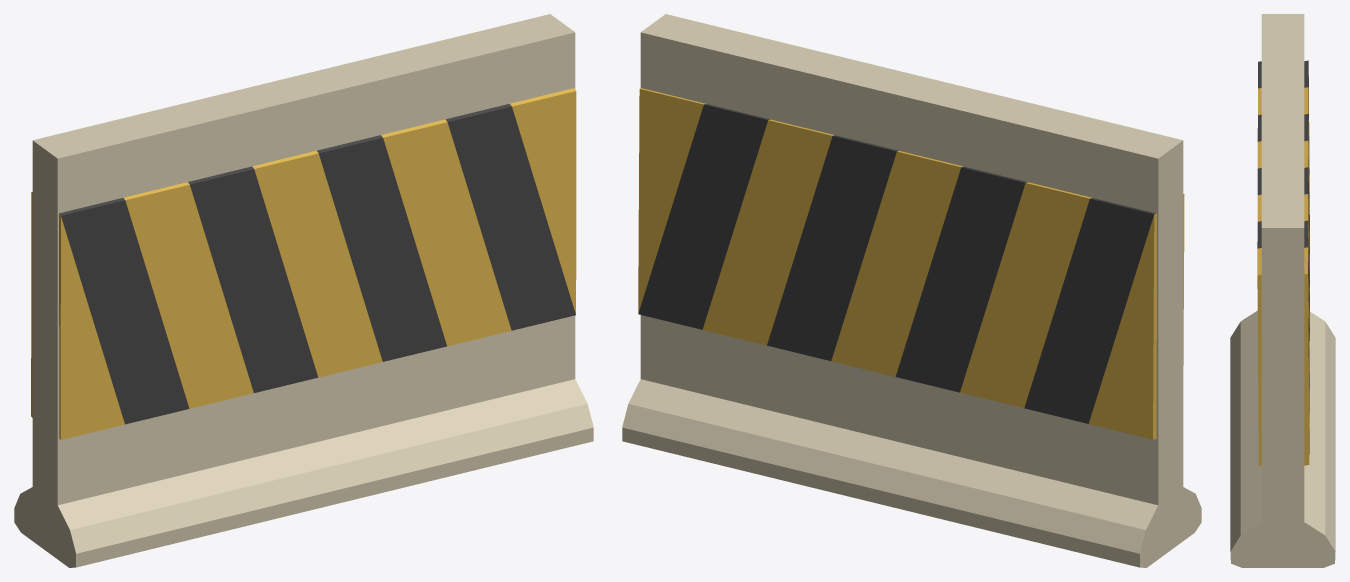
Rendered from ParkingJamPuzzleBarrier.fbx.
The picture shows the model from 3 angles, left to right: view 1: azimuth 30°, elevation 25°; view 2: azimuth 150°, elevation 25°; view 3: azimuth 270°, elevation 25°; orthographic projection. The views are drawn at different scales.
Visible parts, largest first — view 1: ParkingBarrier; view 2: ParkingBarrier; view 3: ParkingBarrier.
Part boxes in pixels (x1,y1,x2,y2): ParkingBarrier: (14,14,593,567); ParkingBarrier: (622,14,1201,567); ParkingBarrier: (1230,14,1335,567).
Size of the model in its own units: 1 by 0.74 by 0.2073.
1 material, 1 textured.
